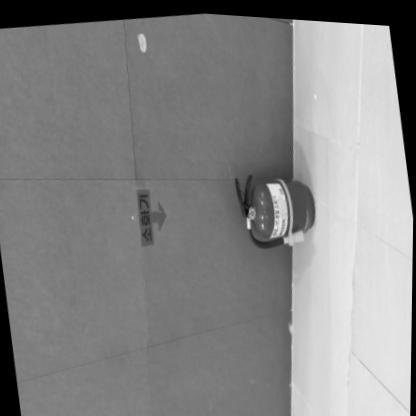FE: (232, 161, 321, 249)
